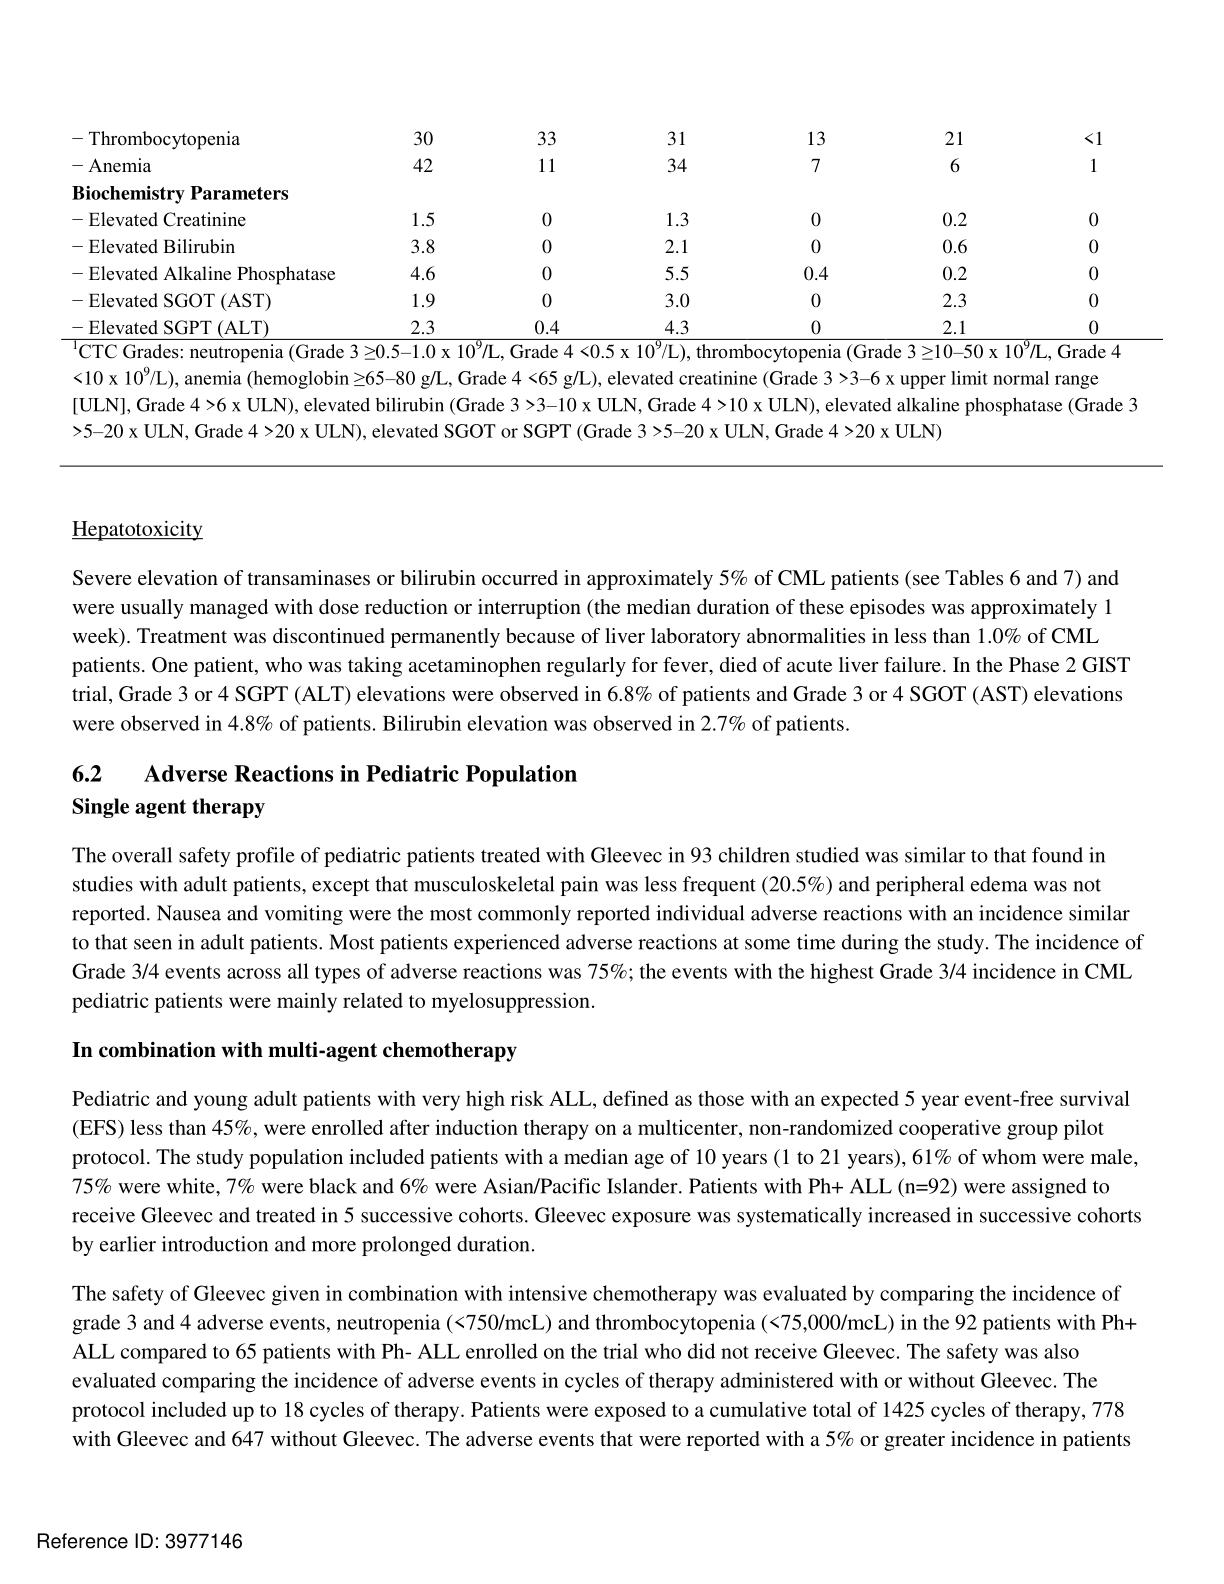nolines: (69, 118, 1108, 337)
